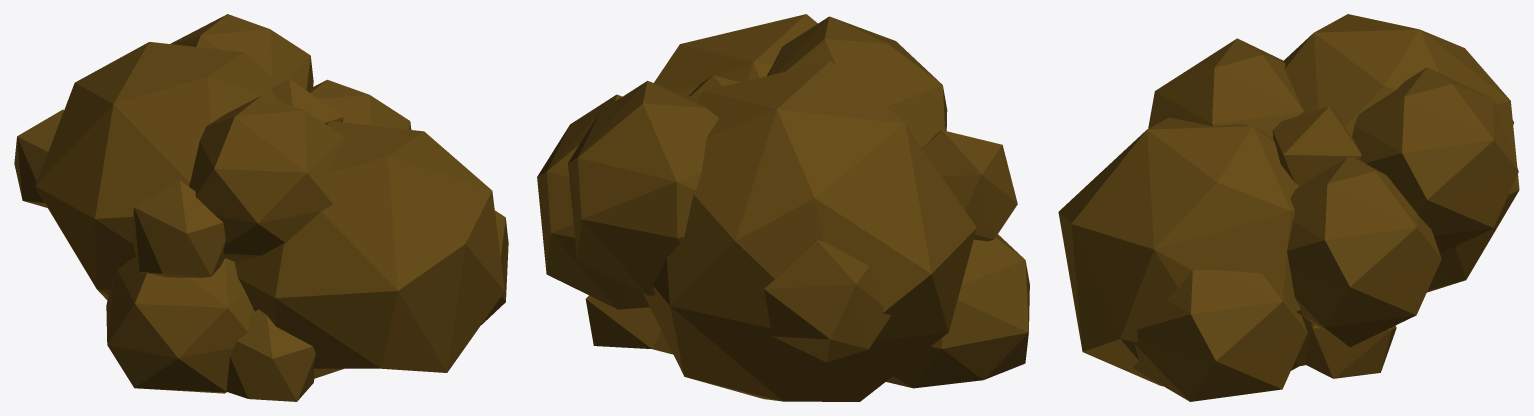
Rendered from bush1.fbx.
3 renders of one model, left to right at view 1: azimuth 30°, elevation 25°; view 2: azimuth 150°, elevation 25°; view 3: azimuth 270°, elevation 25°, orthographic. The views are drawn at different scales.
Visible parts, largest first — view 1: bush 1; view 2: bush 1; view 3: bush 1.
Boxes of the visible parts, <box> form: bush 1: <box>14,14,508,401</box>; bush 1: <box>537,14,1029,401</box>; bush 1: <box>1058,14,1519,401</box>.
Bounding box in the file's own units: 226 × 142 × 226.
